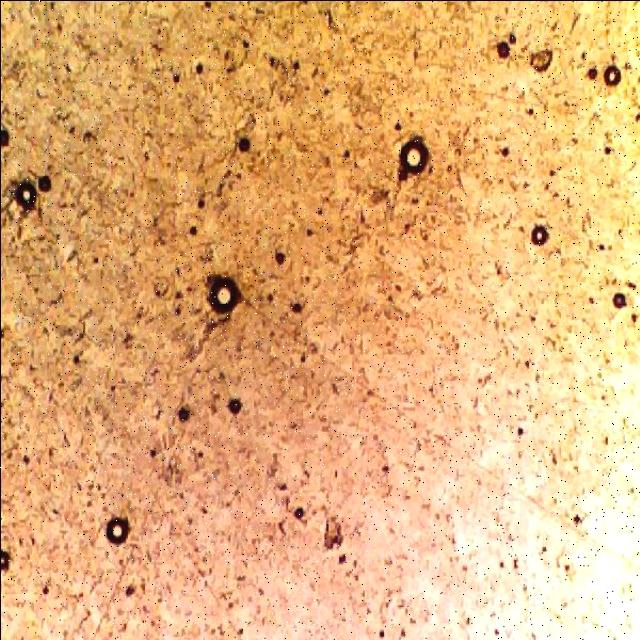microbeads: (397, 134, 431, 176), (208, 276, 242, 314)
